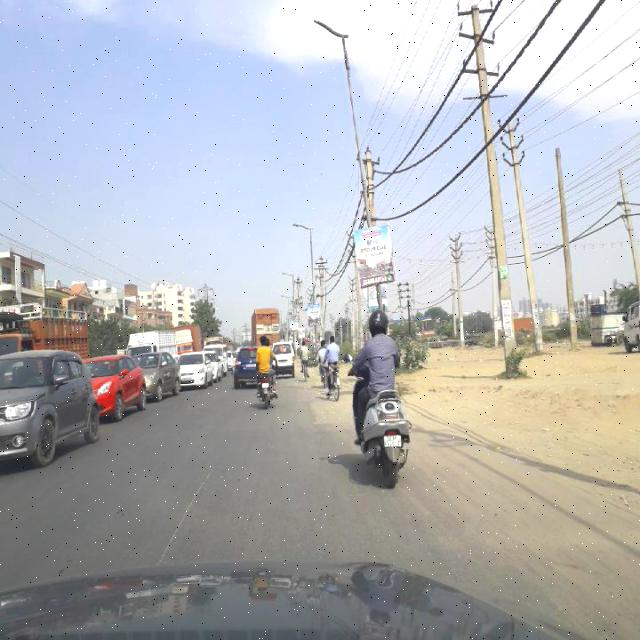D01: (160, 469, 212, 558)
